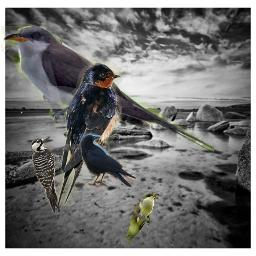Crow: (80, 132, 136, 189)
Cuckoo: (1, 26, 214, 155), (125, 193, 159, 243)
Swallow: (54, 61, 122, 206)
Woodpecker: (31, 136, 61, 214)
